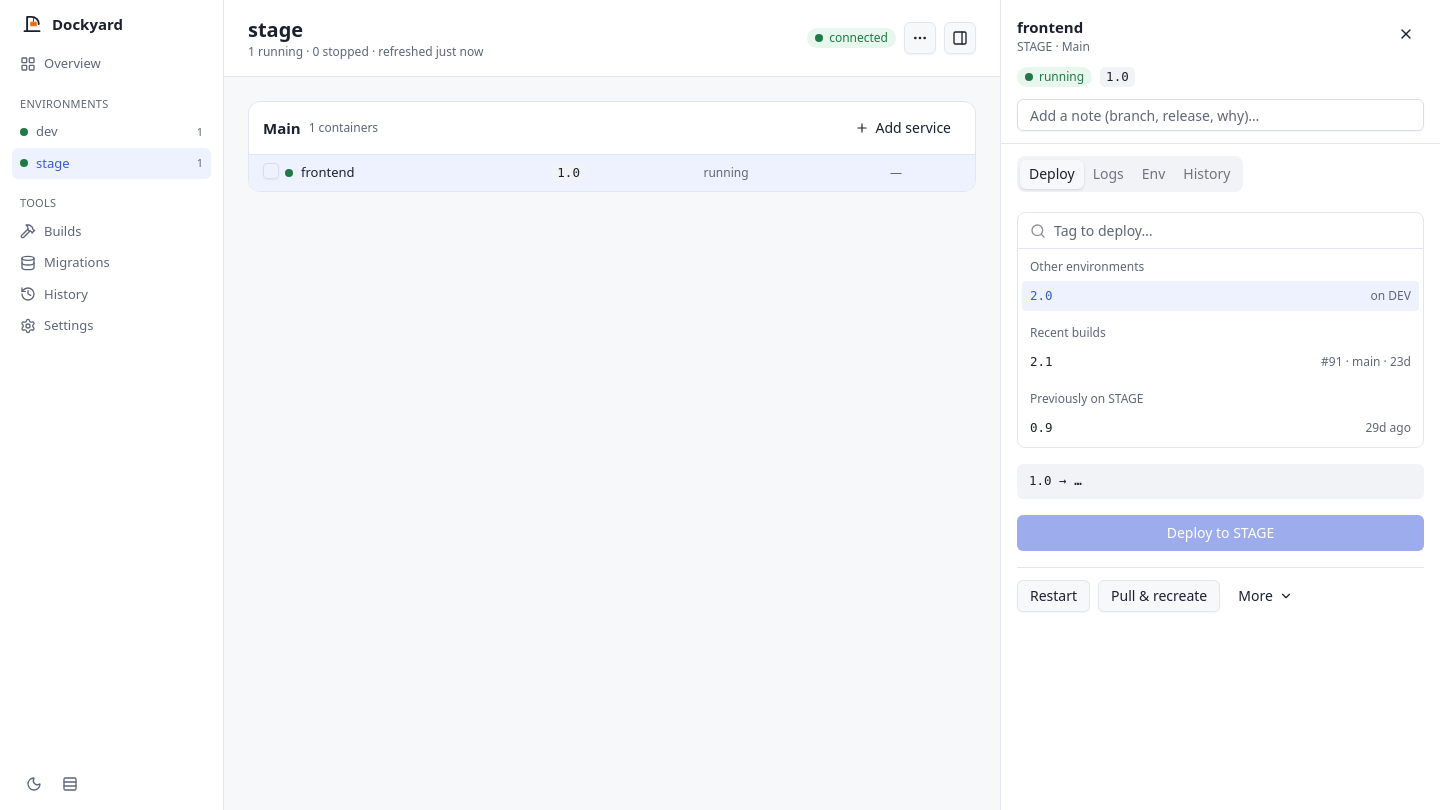
Test: DeployTab › keeps risky actions behind the More menu
Click the button "More". click: click(1266, 596)
box: x1=1228 y1=580 x2=1303 y2=612
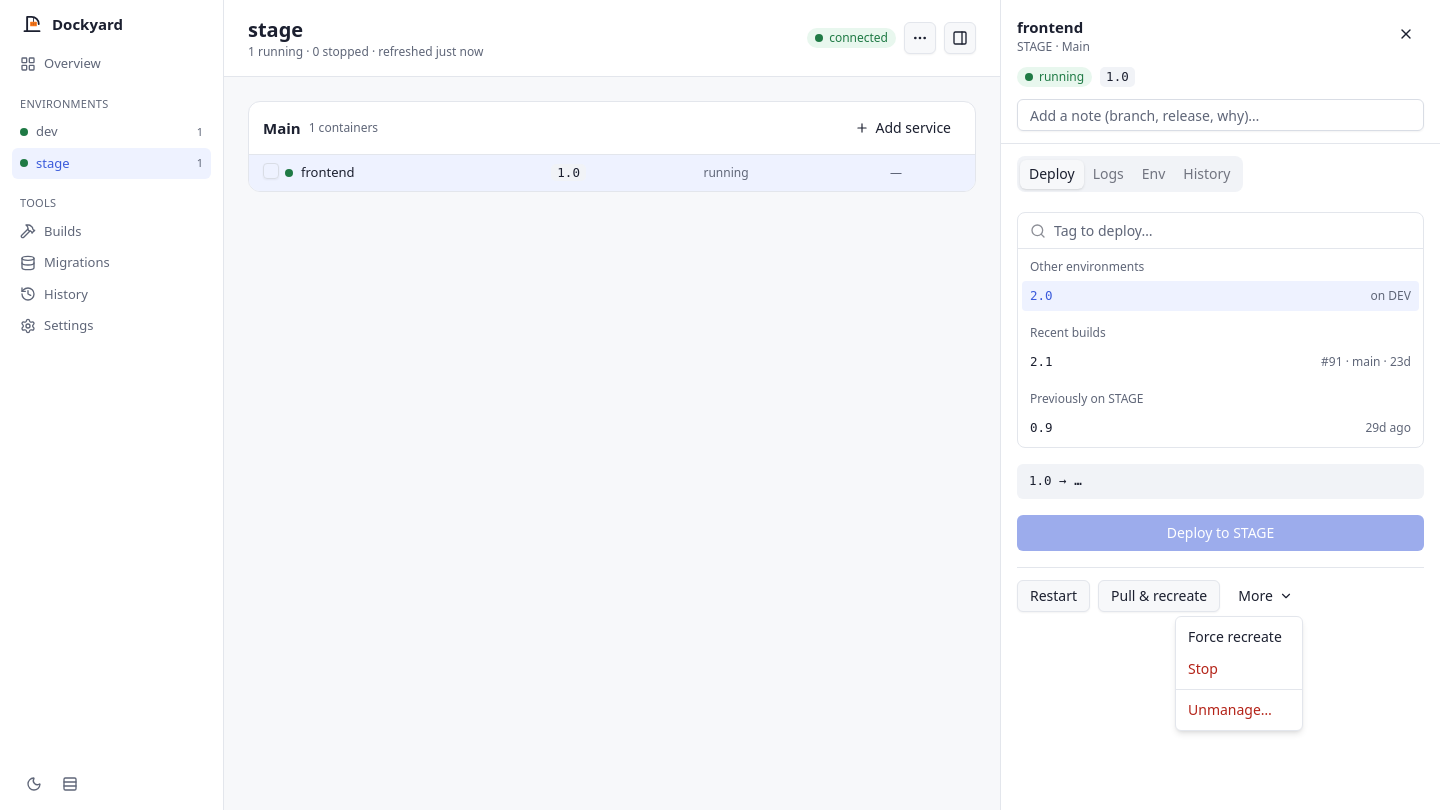
Expected: the menu item "Stop" is shown, x1=1188 y1=659 x2=1218 y2=678
Expected: the menu item "Force recreate" is shown, x1=1188 y1=627 x2=1282 y2=646
Expected: the menu item "Unmanage…" is shown, x1=1188 y1=700 x2=1272 y2=719
